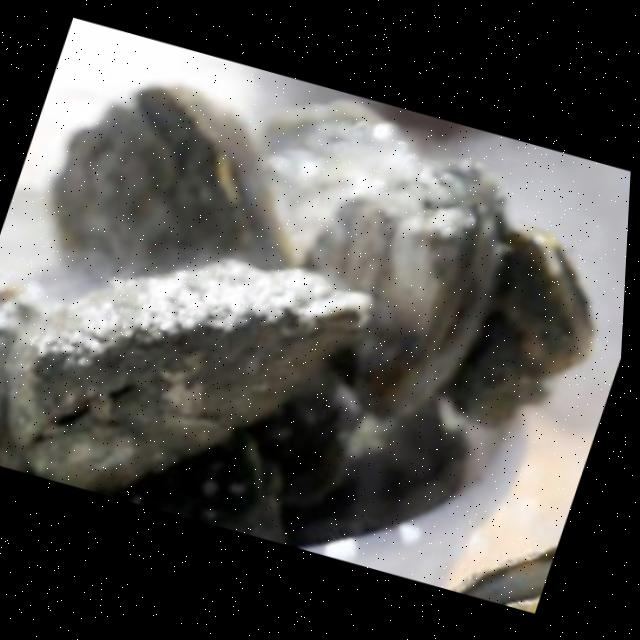Oyster-Closed: (295, 166, 500, 426), (52, 84, 292, 282), (440, 227, 597, 423)
Oyster-Indeterminate: (0, 257, 374, 491), (263, 112, 431, 268)
